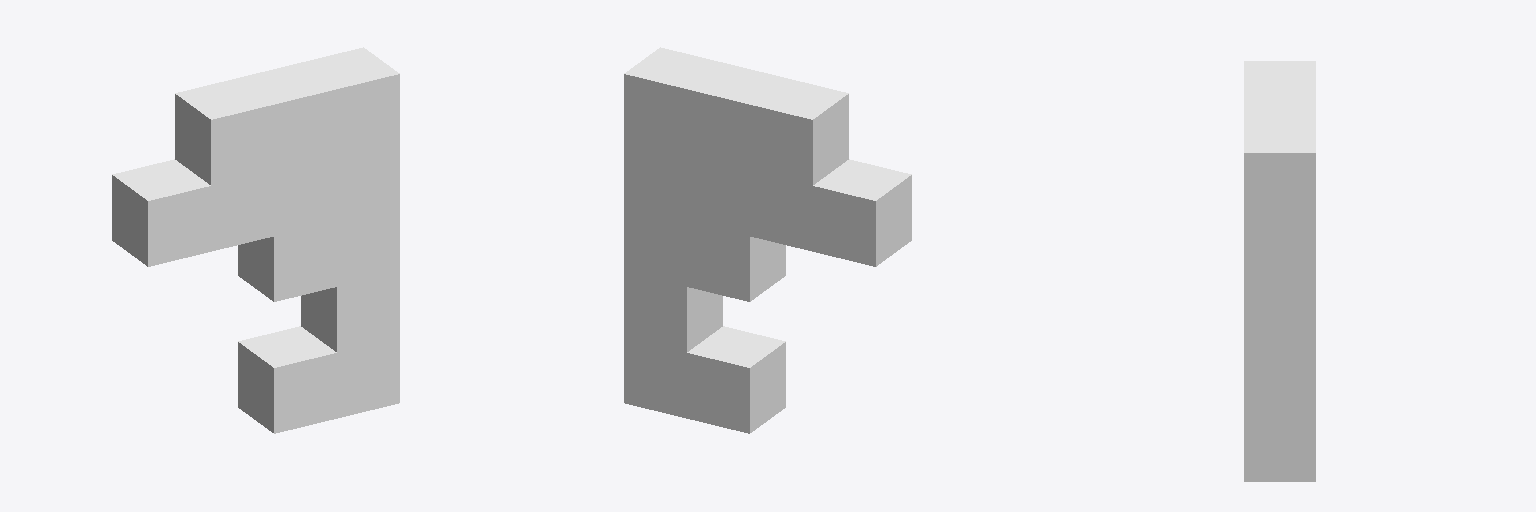
The model's file is YellowHouseParts-53.obj.
3 renders of one model, left to right at view 1: azimuth 30°, elevation 25°; view 2: azimuth 150°, elevation 25°; view 3: azimuth 270°, elevation 25°, orthographic.
Visible parts, largest first — view 1: object 1; view 2: object 1; view 3: object 1.
Boxes of the visible parts, box(x1,y1,x2,y2) form: object 1: box(112, 47, 399, 433); object 1: box(624, 47, 911, 433); object 1: box(1244, 61, 1315, 481).
Size of the model in its own units: 0.4 by 0.5 by 0.1.